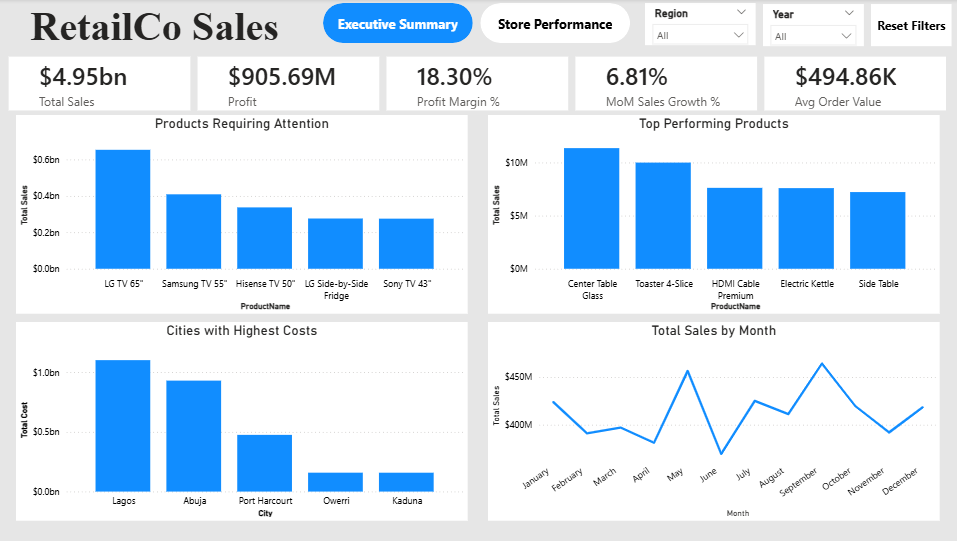

What the dashboard file says about the page in this screenshot:
{"tool":"powerbi","page":{"name":"Executive Summary","canvas":[1280,720],"ordinal":0},"visuals":[{"type":"cardVisual","fields":{"Data":["Measure.Total Sales","Measure.Profit","Measure.Profit Margin %","Measure.MoM Sales Growth %","Measure.Avg Order Value"]},"box":[0,59.2,1280,106],"z":0},{"type":"lineChart","title":"Total Sales by Month","fields":{"Category":["Calendar.MonthName"],"Y":["Measure.Total Sales"]},"box":[653.8,429.4,600.1,264.3],"z":1000},{"type":"clusteredColumnChart","title":"Products Requiring Attention","fields":{"Category":["Products.ProductName"],"Y":["Measure.Total Sales"]},"box":[26.2,154.2,600.1,264.3],"z":2000},{"type":"clusteredColumnChart","title":"Top Performing Products","fields":{"Y":["Measure.Total Sales"],"Category":["Products.ProductName"]},"box":[653.8,154.2,600.1,264.3],"z":3000},{"type":"slicer","fields":{"Values":["Calendar.Year"]},"box":[1018.5,6.9,133.5,56.4],"z":4000},{"type":"slicer","fields":{"Values":["Stores.Region"]},"box":[861.6,5.5,147.3,56.4],"z":5000},{"type":"clusteredColumnChart","title":"Cities with Highest Costs","fields":{"Y":["Measure.Total Cost"],"Category":["Stores.City"]},"box":[26.2,429.4,600.1,264.3],"z":6000},{"type":"pageNavigator","box":[434.9,5,408.8,53.7],"z":7000},{"type":"actionButton","box":[1163,6.9,107.4,56.4],"z":8000},{"type":"textbox","box":[0,0,421.2,71.6],"z":9000}]}

Visuals, with their boxes in screenshot pixels (x1, y1, x2, y2), scaled from the page's 1280x720 canvas onto the 957x541 screenshot:
cardVisual - Measure.Total Sales x Measure.Profit: (0,44,956,124)
"Total Sales by Month" lineChart: (489,323,937,521)
"Products Requiring Attention" clusteredColumnChart: (20,116,468,314)
"Top Performing Products" clusteredColumnChart: (489,116,937,314)
slicer - Calendar.Year: (761,5,861,48)
slicer - Stores.Region: (644,4,754,47)
"Cities with Highest Costs" clusteredColumnChart: (20,323,468,521)
pageNavigator: (325,4,631,44)
actionButton: (870,5,950,48)
textbox: (0,0,315,54)
